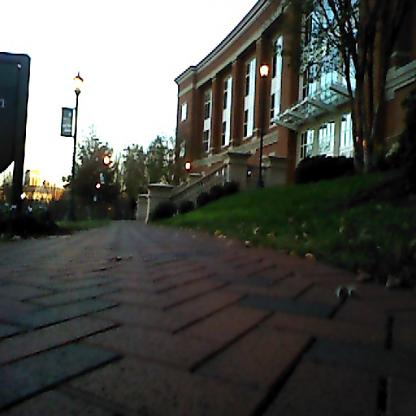Edge: (170, 215, 415, 313)
Sidewalk: (0, 222, 416, 416)
